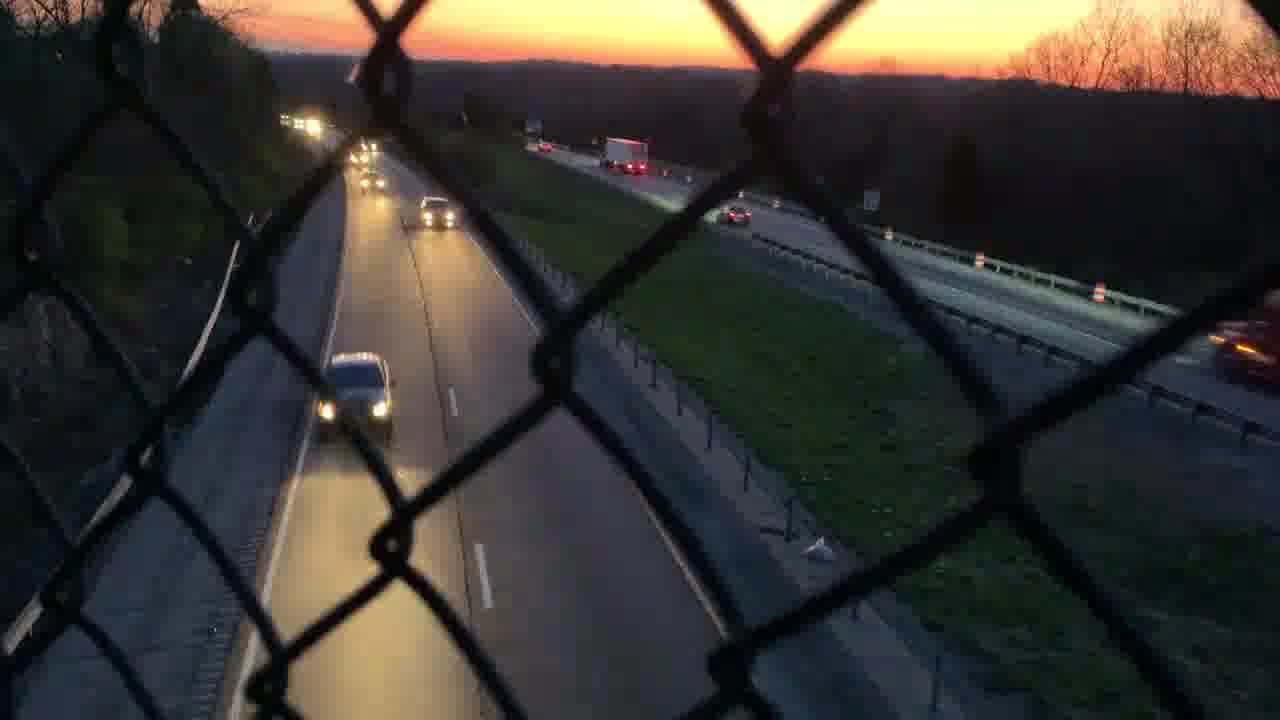heavyTruck: (598, 136, 651, 175)
largeCar: (317, 348, 394, 446), (417, 194, 458, 234)
smallCar: (718, 205, 754, 228)
